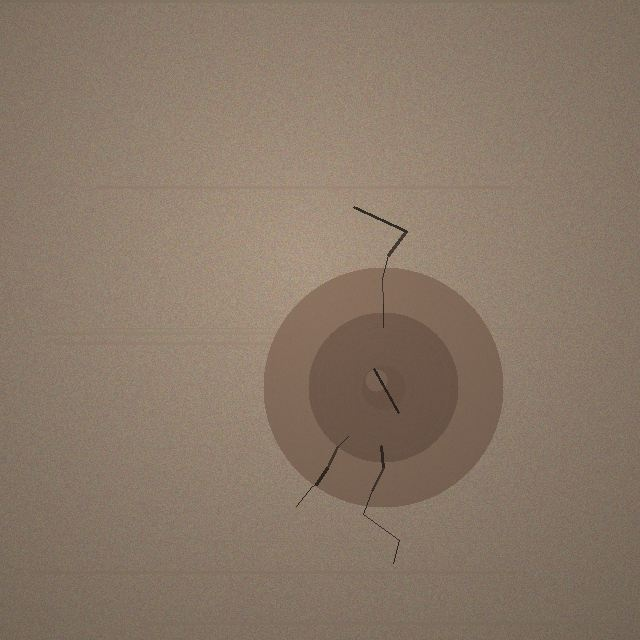crack: (263, 267, 503, 507)
